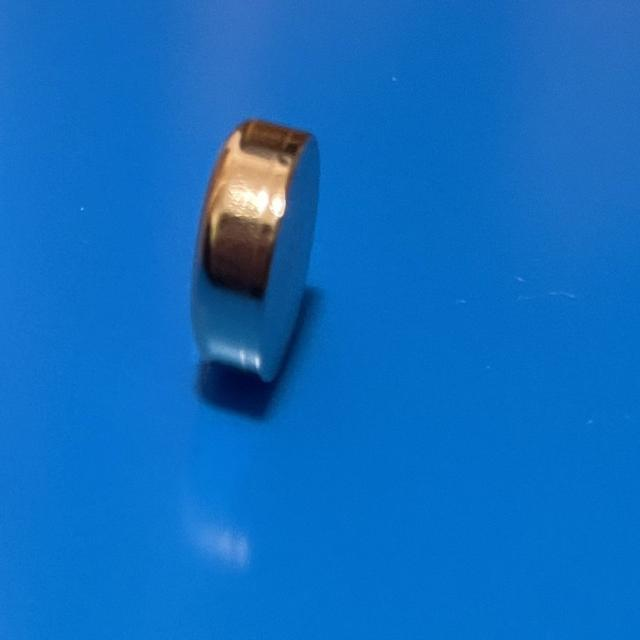COIN: (191, 120, 321, 386)
